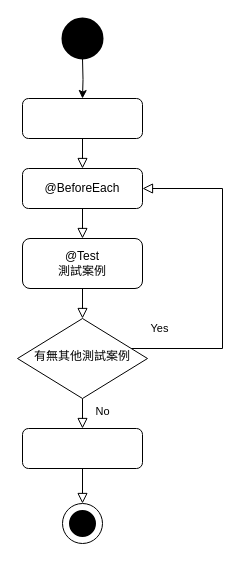
The diagram is 250 pixels wide and 561 high, and some of its shapes have lost their labels. The shapes that lost their labels are listed below. From the top down, each one's centre as x and y in pixels, then its label:
the point at 82,118: @BeforeAll
the point at 82,448: @AfterAll
